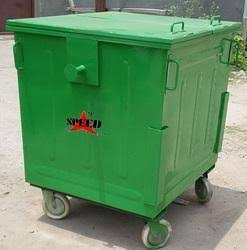Carts: (5, 8, 243, 250)
